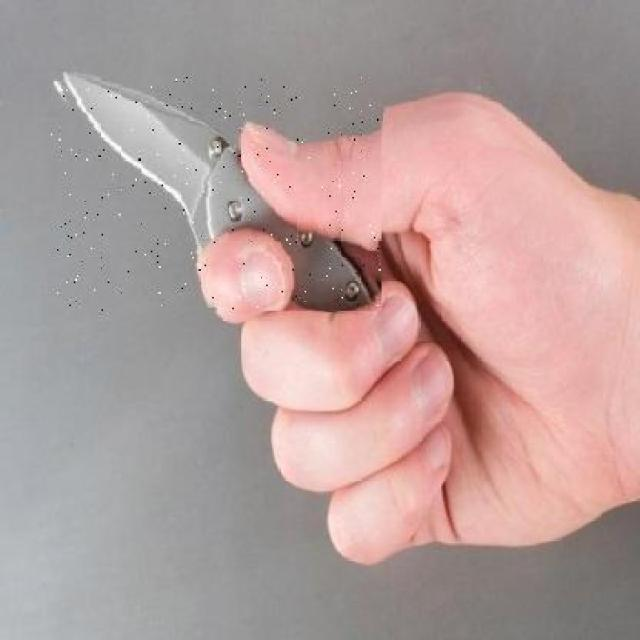knife: (51, 77, 382, 311)
